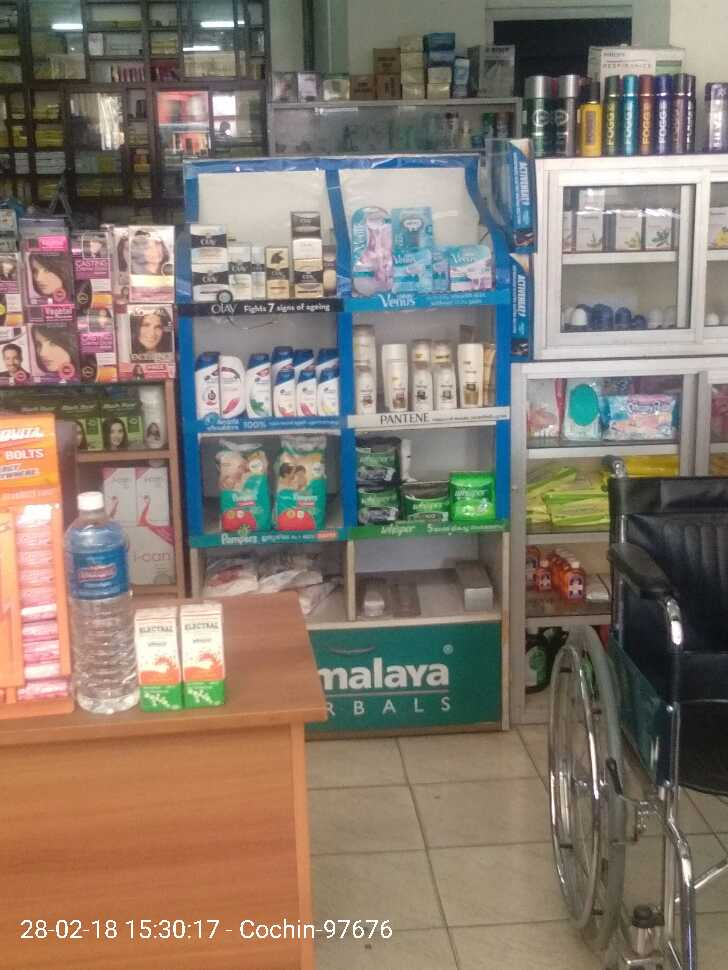venus: (355, 208, 394, 292), (394, 249, 435, 292), (451, 244, 491, 288), (398, 208, 432, 246), (435, 249, 451, 288)
